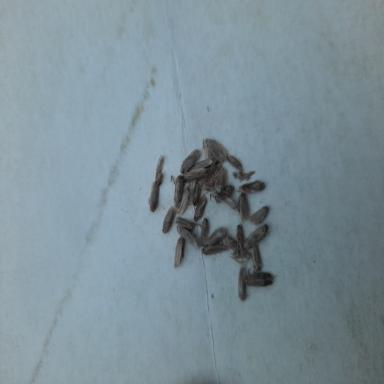pbw: (225, 236, 251, 261), (203, 138, 228, 162), (244, 223, 268, 248), (180, 148, 202, 174), (176, 224, 199, 248), (244, 272, 278, 288), (170, 174, 186, 208), (215, 184, 242, 202), (205, 164, 223, 191), (204, 226, 228, 246), (188, 177, 204, 206), (250, 243, 264, 274), (193, 192, 207, 222), (237, 180, 266, 194), (148, 181, 160, 213), (249, 206, 269, 225), (162, 206, 176, 233), (182, 168, 209, 182), (173, 235, 184, 268), (198, 218, 210, 248), (226, 154, 243, 175), (188, 158, 213, 172), (177, 186, 189, 214), (239, 192, 250, 222), (215, 167, 228, 192), (238, 266, 247, 302), (223, 194, 240, 212), (155, 155, 165, 185), (201, 245, 229, 255), (236, 223, 244, 258), (175, 216, 196, 229), (238, 171, 255, 182)
